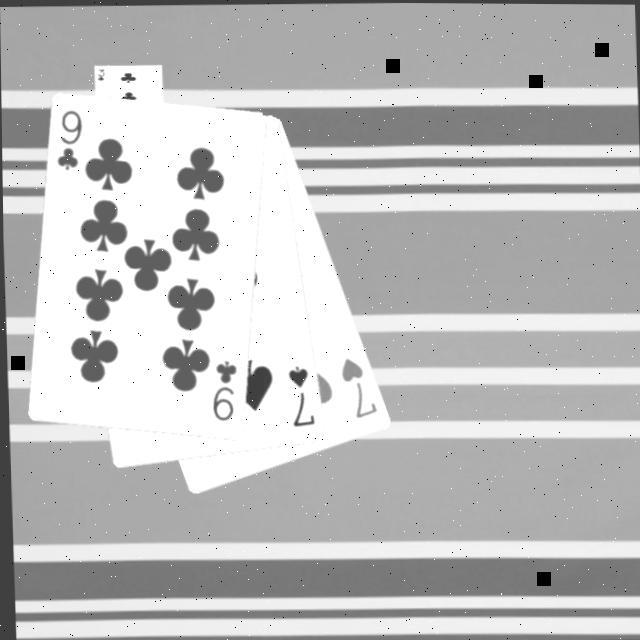7H: (334, 350, 378, 420)
7S: (282, 359, 316, 428)
9C: (204, 354, 238, 423), (50, 104, 84, 173)
